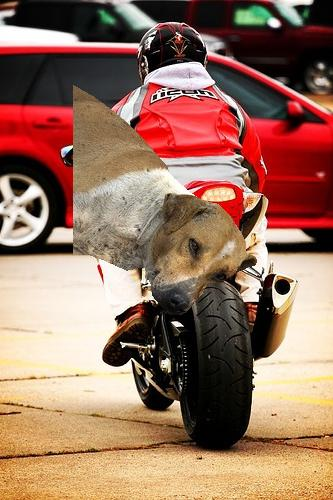tampered: (74, 86, 257, 315)
